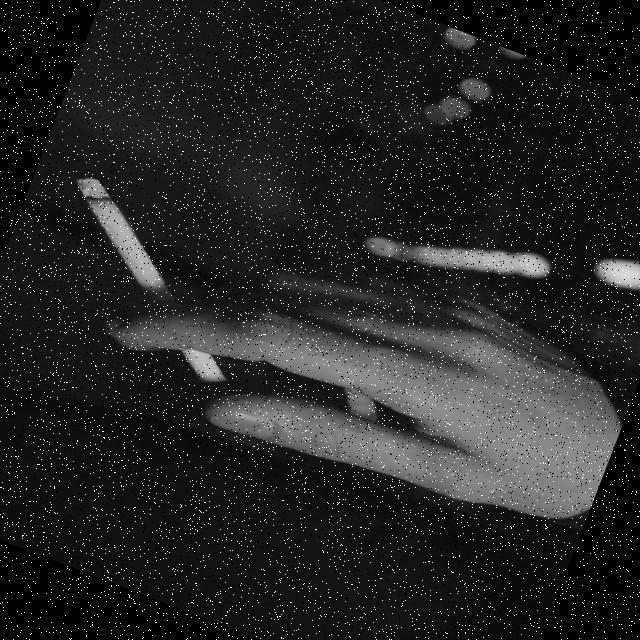cigarette: (26, 164, 280, 389)
